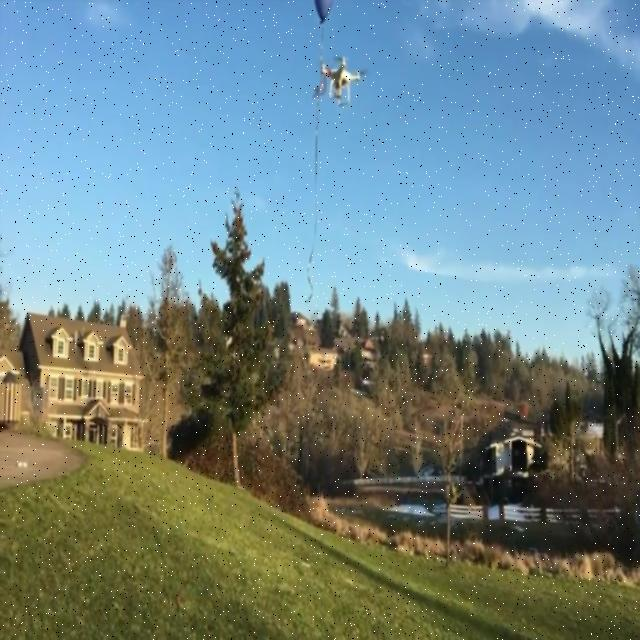UAV: (322, 57, 360, 107)
